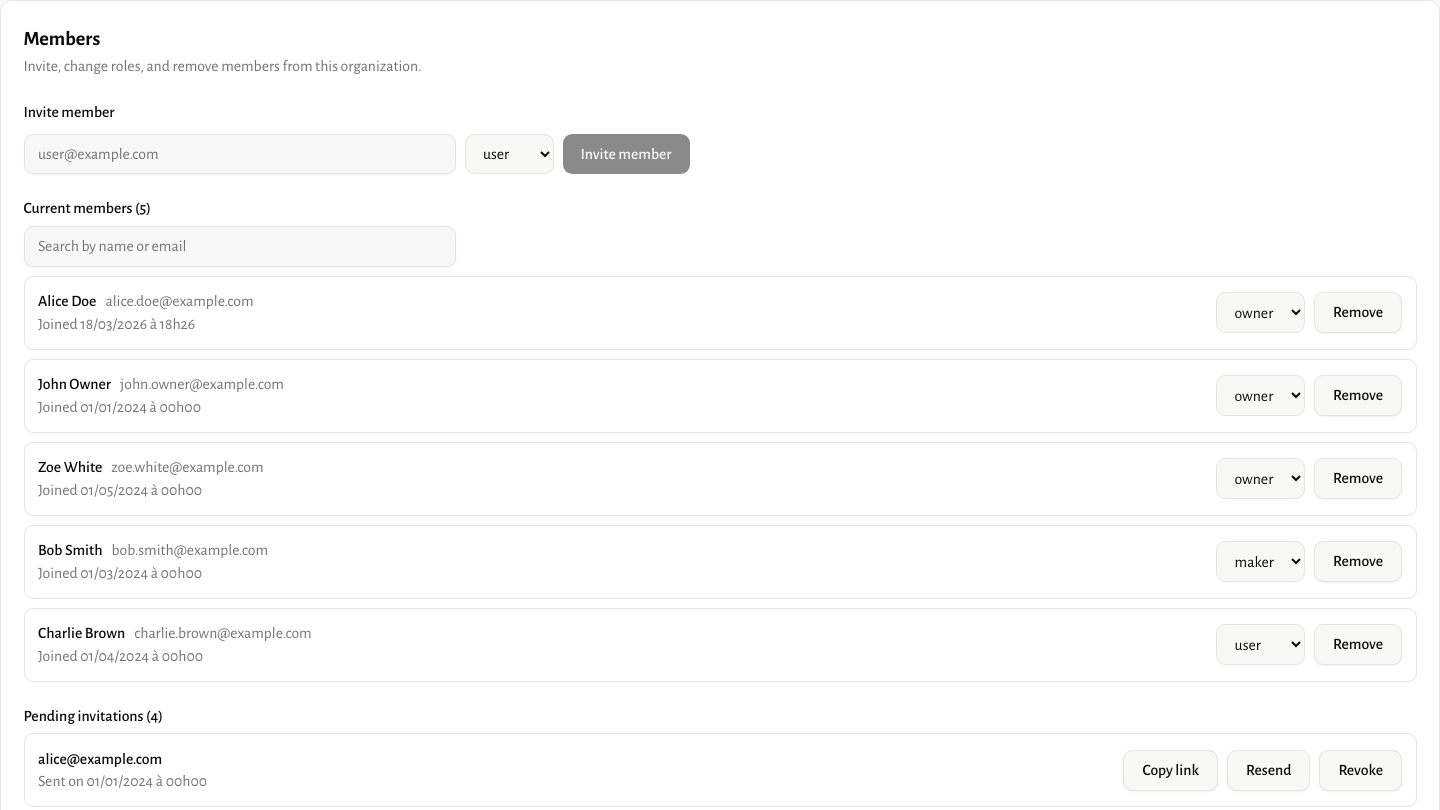
OrganizationMembersPanel › should filter current members by email using the search input
Type "bob.smith" into the field with placeholder "Search by name or email". click: (240, 246)
box: [24,226,456,266]
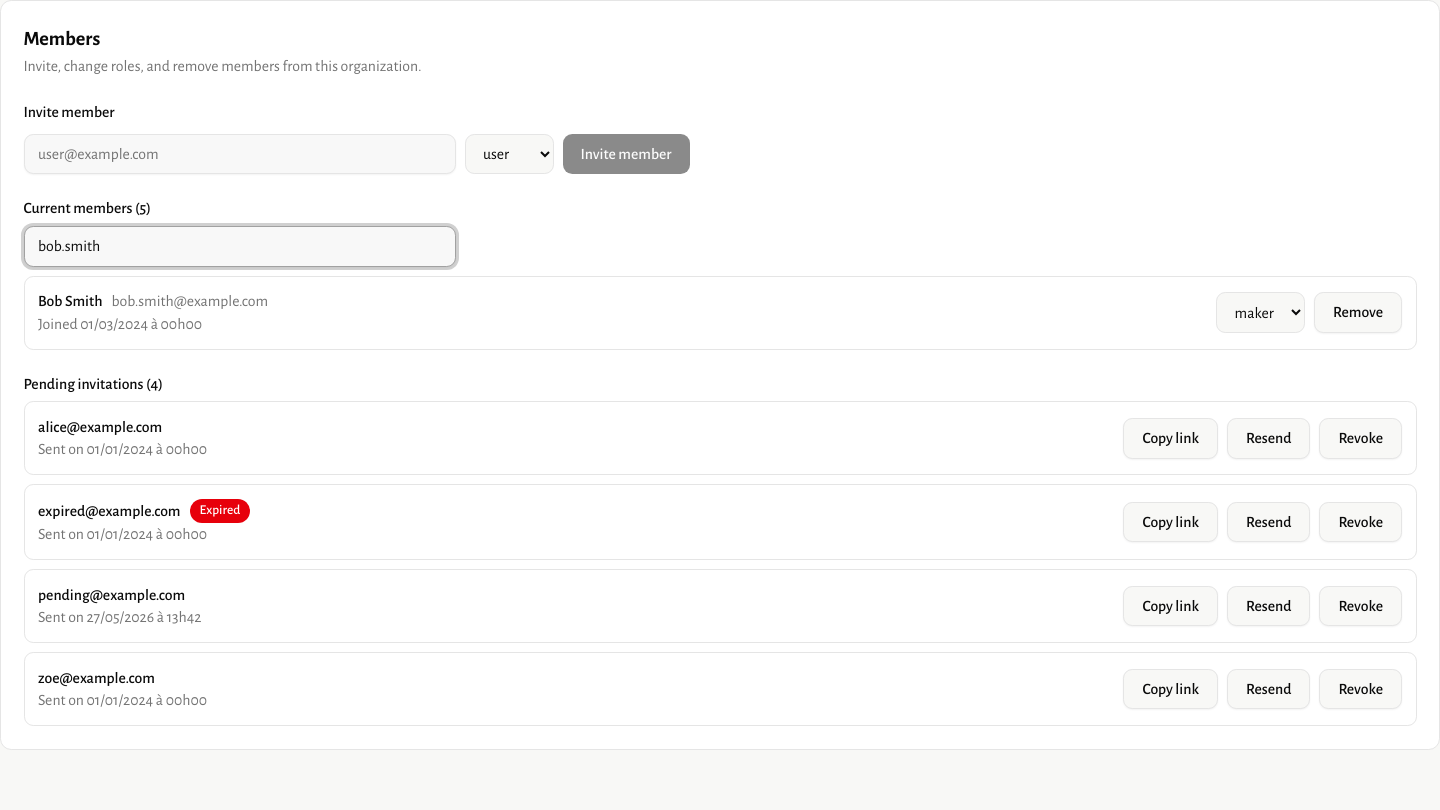
Check: the text "Bob Smith" is shown, box [38,290,102,312]
Check: the text "Alice Doe" is gone
Check: the text "Charlie Brown" is gone
